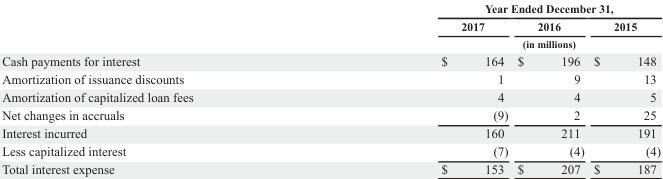table: (1, 1, 660, 175)
table column: (1, 1, 316, 175), (316, 1, 512, 175), (512, 1, 588, 175), (588, 1, 660, 175)
table column header: (1, 1, 660, 51)
table row: (1, 16, 660, 34), (1, 51, 660, 69), (1, 69, 660, 87), (1, 87, 660, 105), (1, 105, 660, 123), (1, 123, 660, 141), (1, 141, 660, 159), (1, 34, 660, 51), (1, 159, 660, 175), (1, 1, 660, 16)
table spanning cell: (316, 34, 660, 51), (316, 1, 660, 16)
